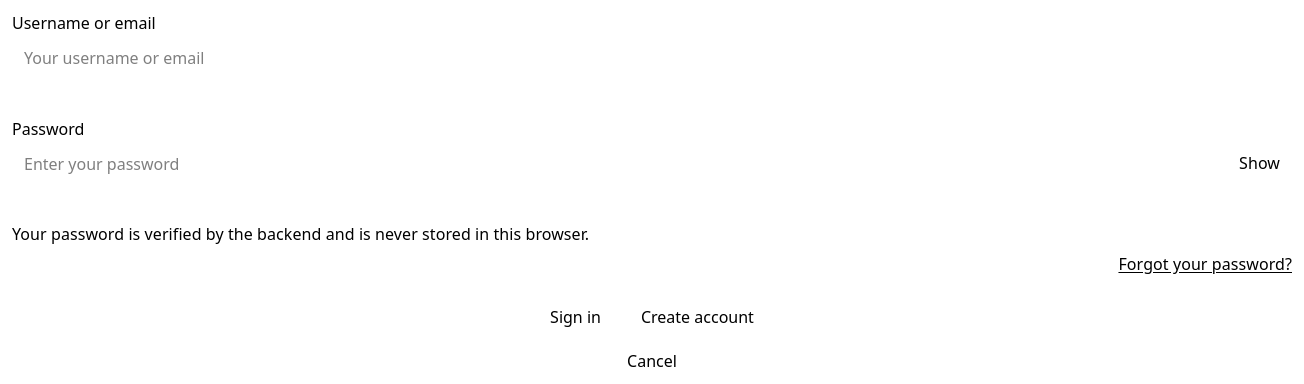
ToolsAuth sign-in › sends the reset request and confirms it was sent
This screenshot has width=1304, height=384.
Type "rudo" into the field labelled "Username or email" at (652, 58), box x1=12 y1=40 x2=1292 y2=76
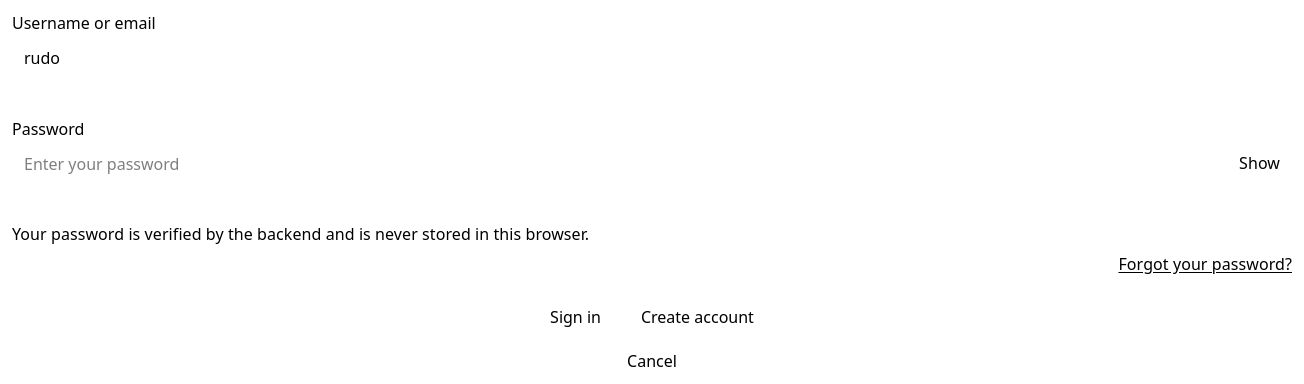
Click the button "Forgot your password?" at (1205, 264), box x1=1118 y1=254 x2=1292 y2=275
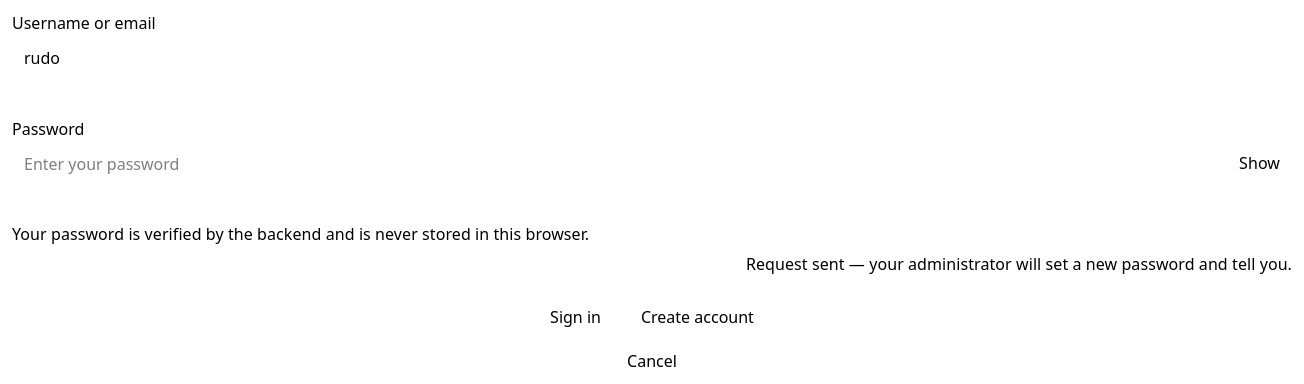
Now the message shows "Request sent", box x1=746 y1=253 x2=1292 y2=275
